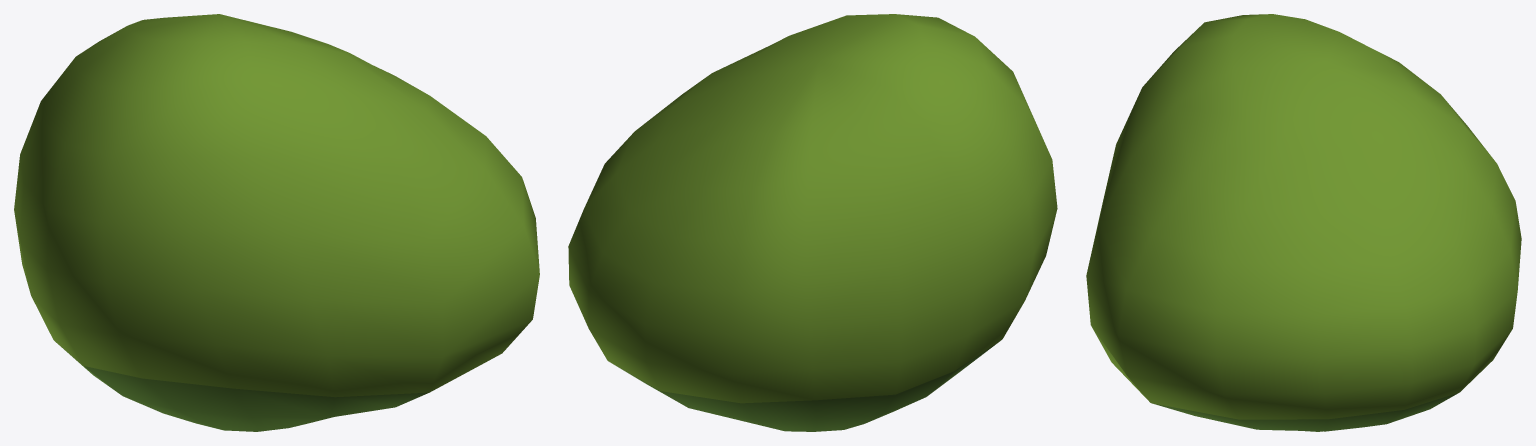
Rendered from bush_small.fbx.
3 renders of one model, left to right at view 1: azimuth 30°, elevation 25°; view 2: azimuth 150°, elevation 25°; view 3: azimuth 270°, elevation 25°, orthographic. The views are drawn at different scales.
Visible parts, largest first — view 1: bush_small; view 2: bush_small; view 3: bush_small.
Part boxes in pixels (x1,y1,x2,y2): bush_small: (14, 14, 539, 431); bush_small: (568, 14, 1057, 431); bush_small: (1086, 14, 1521, 431).
Size of the model in its own units: 13.62 by 12.02 by 13.05.
